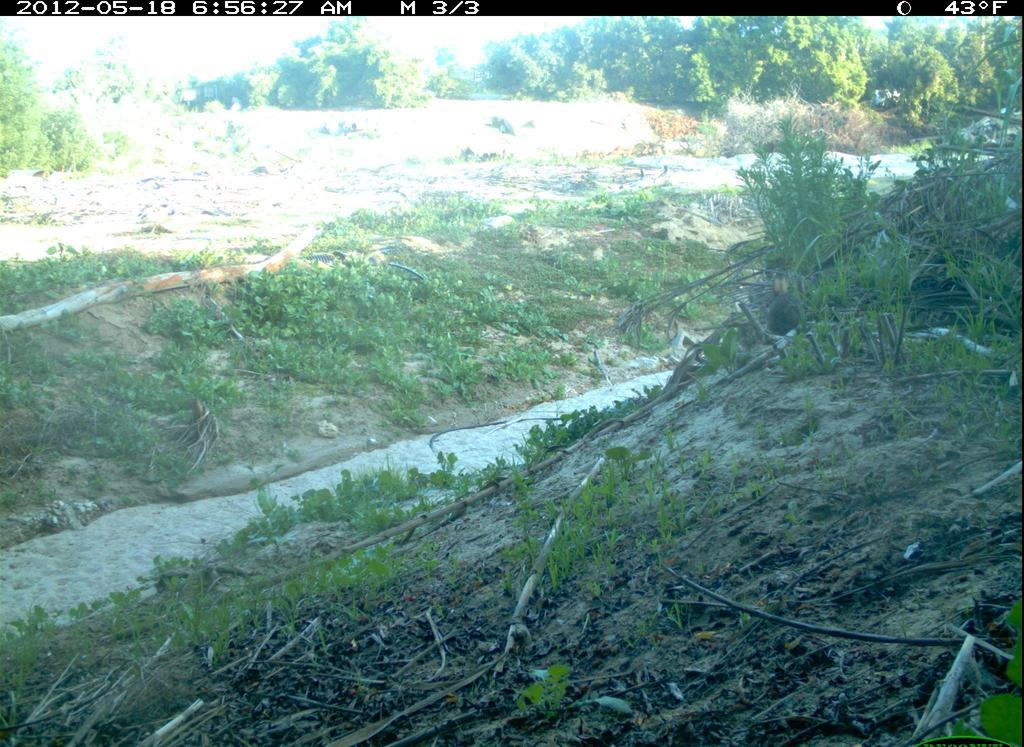rabbit: (760, 273, 807, 341)
